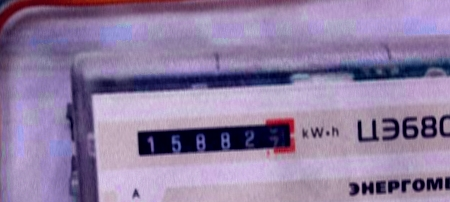1: (141, 134, 154, 153)
2: (240, 128, 253, 148)
5: (166, 133, 179, 153)
7: (265, 135, 277, 149)
8: (216, 130, 229, 152), (191, 131, 204, 152)
screen: (126, 113, 302, 165)
